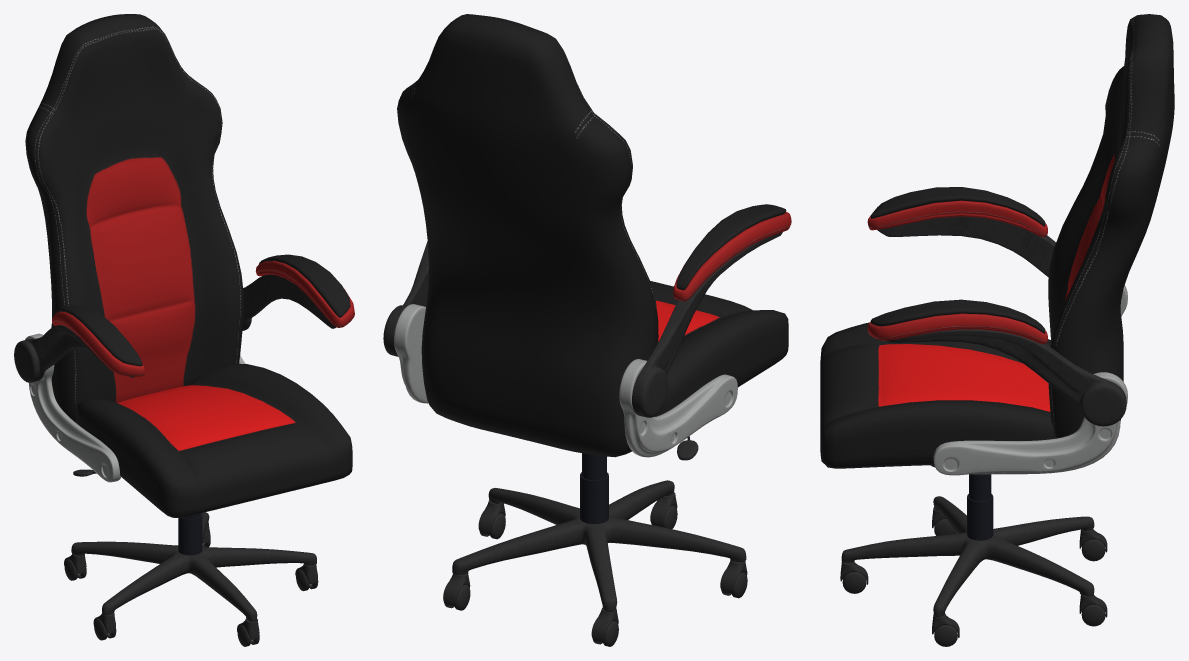
3 views of the same model, side by side, from view 1: azimuth 30°, elevation 25°; view 2: azimuth 150°, elevation 25°; view 3: azimuth 270°, elevation 25° (orthographic). The views are drawn at different scales.
Visible parts, largest first — view 1: Gaming_Chair_BackSeat_lp, Gaming_Chair_Seat_lp, Gaming_Chair_Leg_lp, Gaming_Chair_ArmRest2_lp, Gaming_Chair_ArmRest_lp, Gaming_Chair_ArmRest3_lp, Gaming_Chair_Roller2_lp, Gaming_Chair_Susp3_lp, Gaming_Chair_Roller3_lp, Gaming_Chair_Roller_lp; view 2: Gaming_Chair_BackSeat_lp, Gaming_Chair_Leg_lp, Gaming_Chair_Seat_lp, Gaming_Chair_ArmRest3_lp, Gaming_Chair_ArmRest_lp, Gaming_Chair_ArmRest2_lp, Gaming_Chair_Susp3_lp, Gaming_Chair_Roller2_lp, Gaming_Chair_Roller3_lp, Gaming_Chair_Roller_lp; view 3: Gaming_Chair_BackSeat_lp, Gaming_Chair_Seat_lp, Gaming_Chair_ArmRest2_lp, Gaming_Chair_ArmRest_lp, Gaming_Chair_Leg_lp, Gaming_Chair_ArmRest3_lp, Gaming_Chair_Susp3_lp, Gaming_Chair_Roller3_lp, Gaming_Chair_Roller2_lp, Gaming_Chair_Roller_lp.
Part boxes in pixels (bbox=[...]): Gaming_Chair_BackSeat_lp: bbox=[25, 14, 243, 422]; Gaming_Chair_Seat_lp: bbox=[76, 364, 352, 517]; Gaming_Chair_Leg_lp: bbox=[71, 512, 316, 621]; Gaming_Chair_ArmRest2_lp: bbox=[52, 254, 354, 376]; Gaming_Chair_ArmRest_lp: bbox=[14, 274, 336, 382]; Gaming_Chair_ArmRest3_lp: bbox=[25, 333, 245, 482]; Gaming_Chair_Roller2_lp: bbox=[93, 564, 318, 640]; Gaming_Chair_Susp3_lp: bbox=[178, 513, 202, 555]; Gaming_Chair_Roller3_lp: bbox=[64, 522, 210, 580]; Gaming_Chair_Roller_lp: bbox=[237, 618, 259, 646]; Gaming_Chair_BackSeat_lp: bbox=[397, 14, 658, 457]; Gaming_Chair_Leg_lp: bbox=[452, 480, 746, 611]; Gaming_Chair_Seat_lp: bbox=[650, 281, 788, 416]; Gaming_Chair_ArmRest3_lp: bbox=[394, 304, 737, 457]; Gaming_Chair_ArmRest_lp: bbox=[383, 232, 782, 417]; Gaming_Chair_ArmRest2_lp: bbox=[673, 204, 791, 301]; Gaming_Chair_Susp3_lp: bbox=[580, 453, 608, 523]; Gaming_Chair_Roller2_lp: bbox=[478, 500, 747, 598]; Gaming_Chair_Roller3_lp: bbox=[443, 573, 618, 646]; Gaming_Chair_Roller_lp: bbox=[650, 492, 677, 528]; Gaming_Chair_BackSeat_lp: bbox=[1048, 14, 1174, 438]; Gaming_Chair_Seat_lp: bbox=[820, 322, 1055, 468]; Gaming_Chair_ArmRest2_lp: bbox=[867, 187, 1047, 344]; Gaming_Chair_ArmRest_lp: bbox=[877, 216, 1126, 426]; Gaming_Chair_Leg_lp: bbox=[841, 496, 1094, 616]; Gaming_Chair_ArmRest3_lp: bbox=[933, 285, 1127, 475]; Gaming_Chair_Susp3_lp: bbox=[967, 474, 993, 540]; Gaming_Chair_Roller3_lp: bbox=[1079, 529, 1107, 626]; Gaming_Chair_Roller2_lp: bbox=[932, 507, 959, 646]; Gaming_Chair_Roller_lp: bbox=[840, 562, 868, 593].
Size of the model in its own units: 0.7913 by 1.6 by 0.9121.
Materials: 2 (2 with a texture image).
